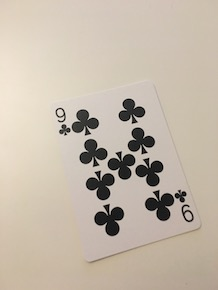NineOfClubs: (45, 76, 204, 267)
